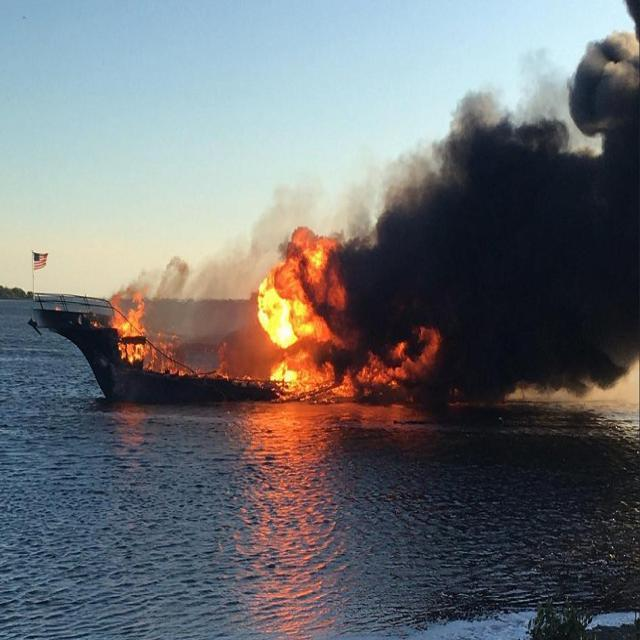Fire: (91, 228, 346, 403), (349, 328, 440, 398)
Smoke: (348, 4, 640, 324), (442, 330, 640, 393)
